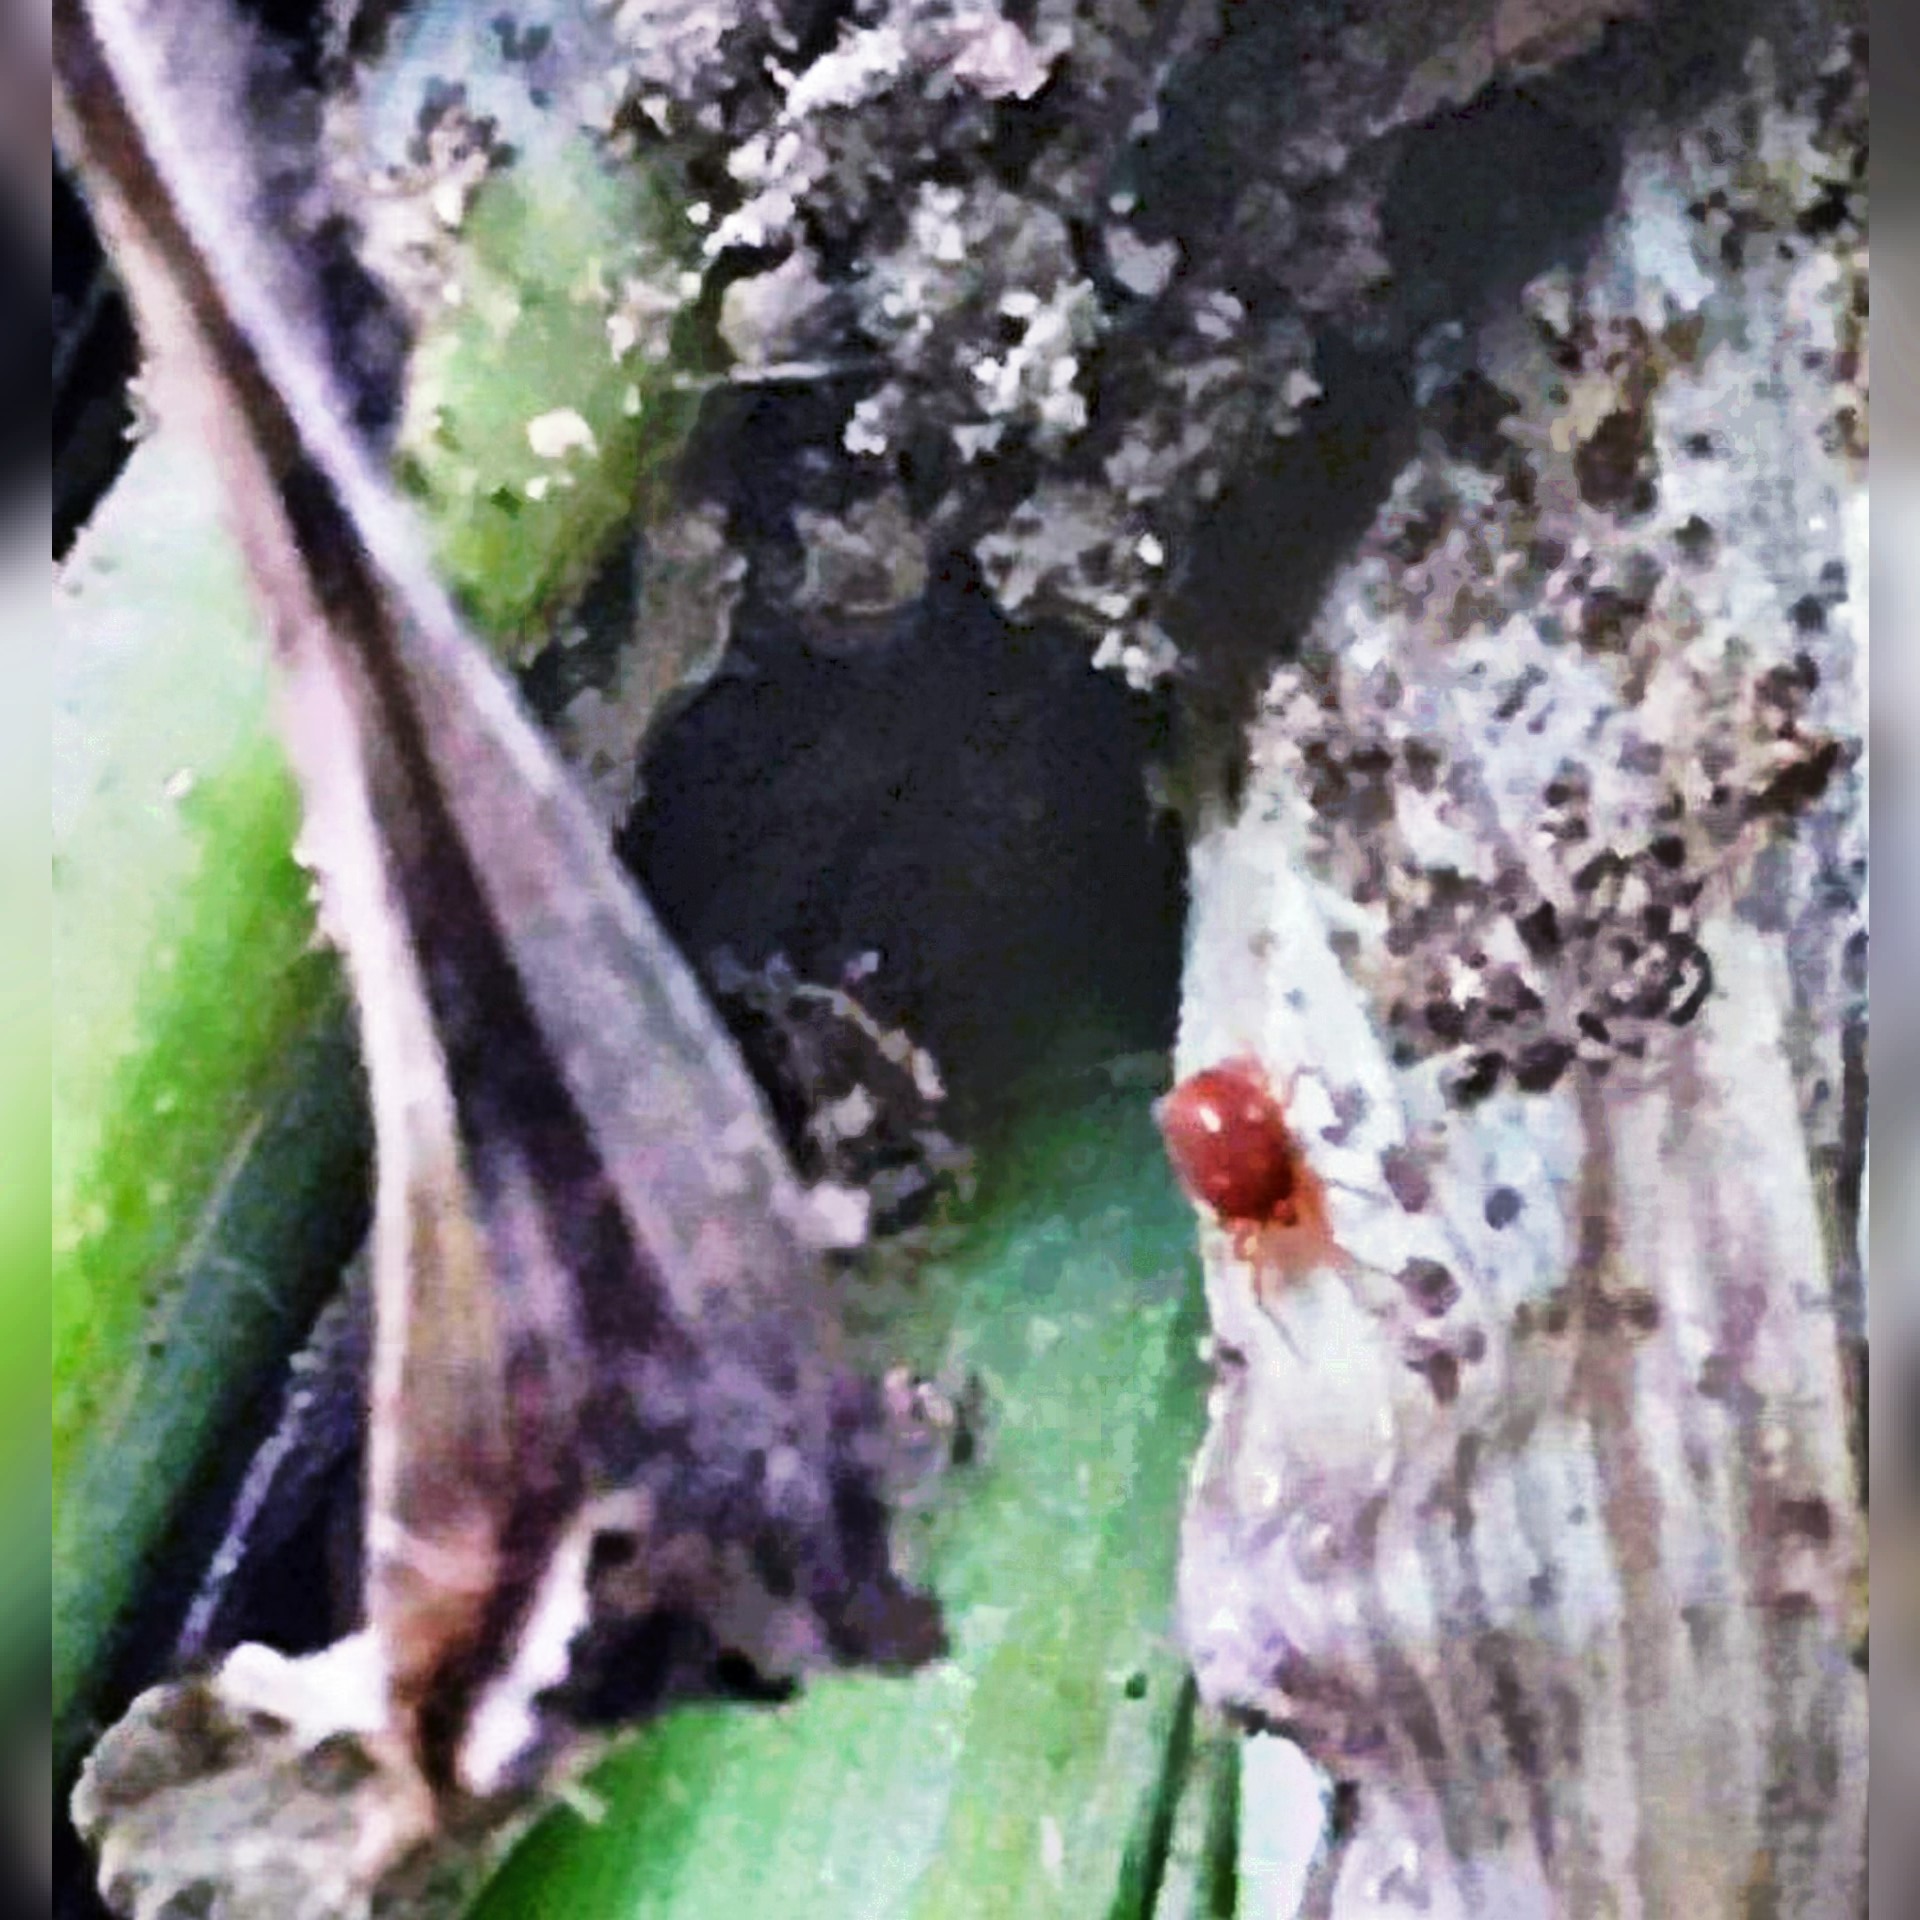Wheat Red Spider: (1122, 1043, 1417, 1354)
